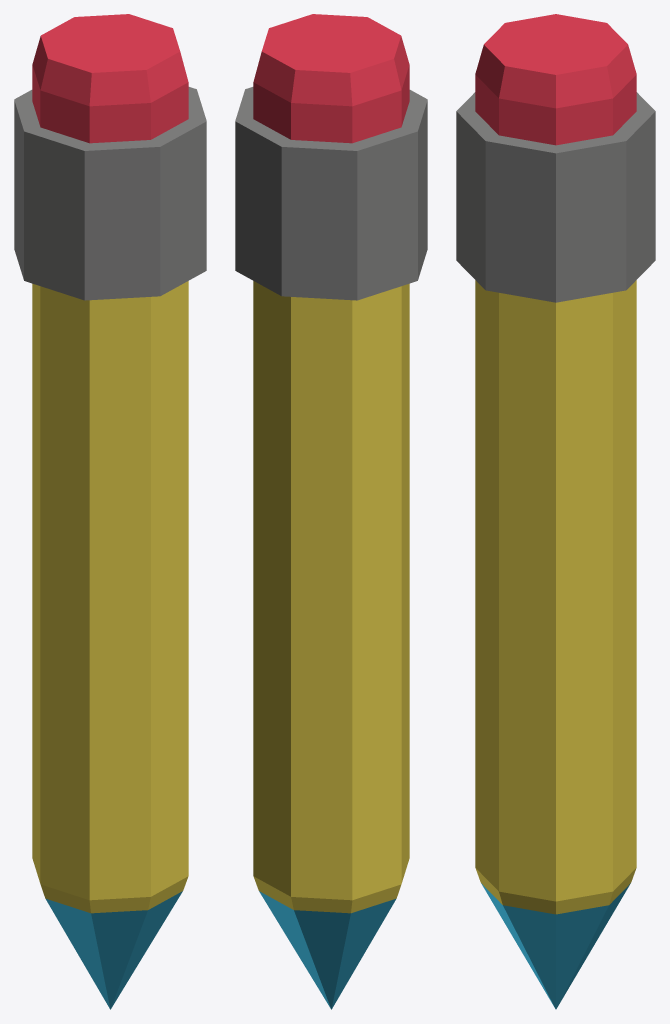
The model's file is pen.fbx.
3 views of the same model, side by side, from view 1: azimuth 30°, elevation 25°; view 2: azimuth 150°, elevation 25°; view 3: azimuth 270°, elevation 25° (orthographic).
Visible parts, largest first — view 1: Pen; view 2: Pen; view 3: Pen.
Part boxes in pixels (x1,y1,x2,y2): Pen: (14,14,206,1009); Pen: (235,14,427,1009); Pen: (456,14,655,1009).
Size of the model in its own units: 137 by 733 by 137.
